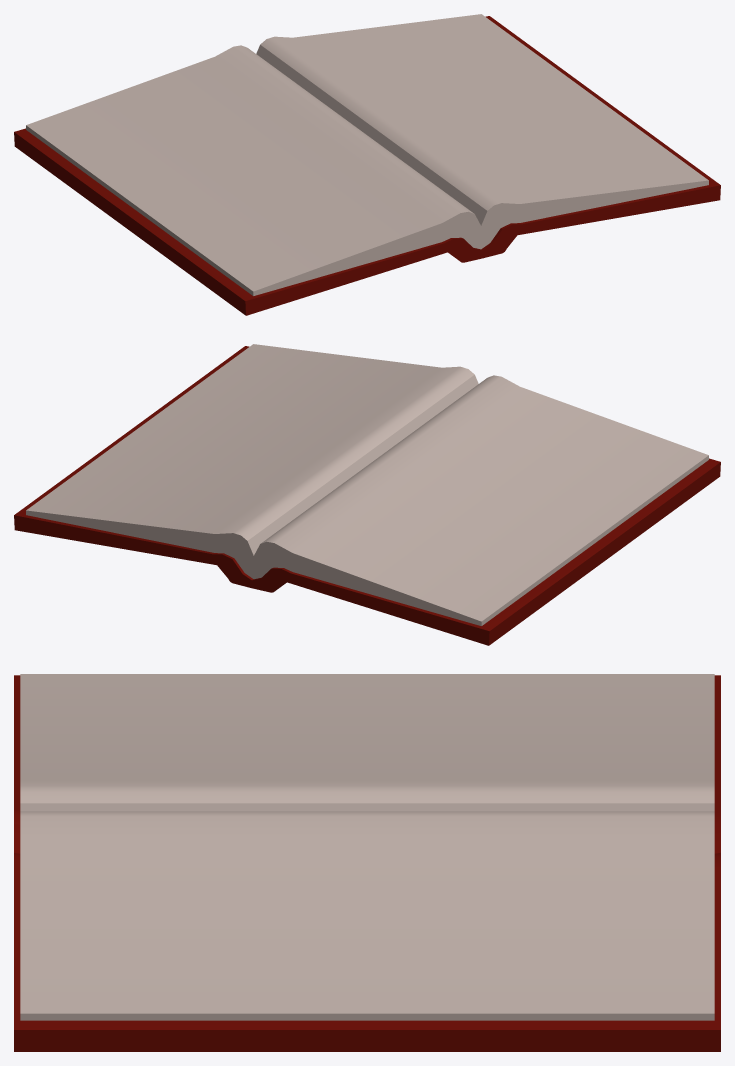
File: Book_Open.fbx
The picture shows the model from 3 angles, top to bottom: view 1: azimuth 30°, elevation 25°; view 2: azimuth 150°, elevation 25°; view 3: azimuth 270°, elevation 25°; orthographic projection. The views are drawn at different scales.
Parts seen in each view (by area): view 1: Book_Open; view 2: Book_Open; view 3: Book_Open.
Part boxes in pixels (<box>): Book_Open: <box>14,14,720,315</box>; Book_Open: <box>14,344,720,645</box>; Book_Open: <box>14,674,720,1051</box>.
Size of the model in its own units: 0.6039 by 0.5088 by 0.0592.
